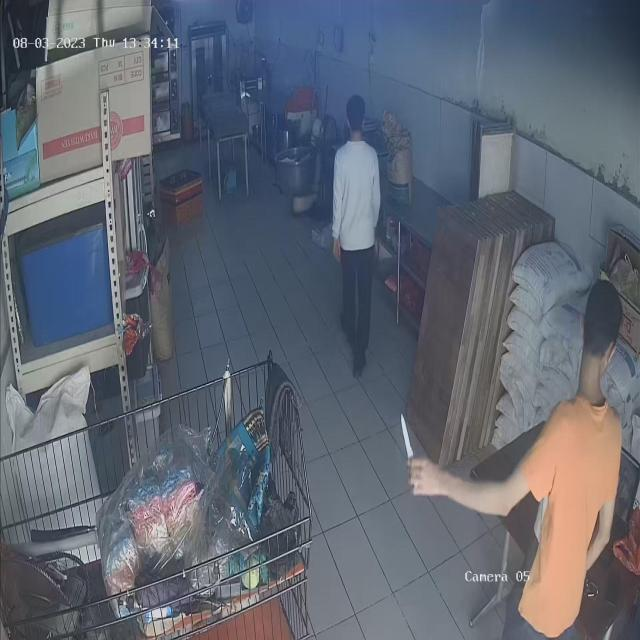Knife: (394, 408, 428, 481)
